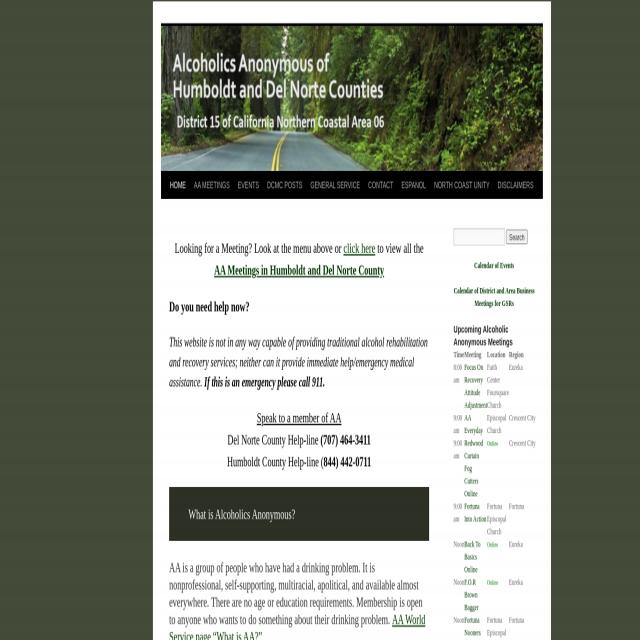button: (430, 170, 494, 198), (307, 170, 364, 198), (493, 170, 538, 198), (189, 170, 233, 198), (263, 170, 306, 198), (364, 170, 398, 198), (397, 170, 429, 198), (234, 170, 263, 198), (166, 170, 190, 198), (506, 229, 528, 243)
field: (454, 227, 504, 245)
